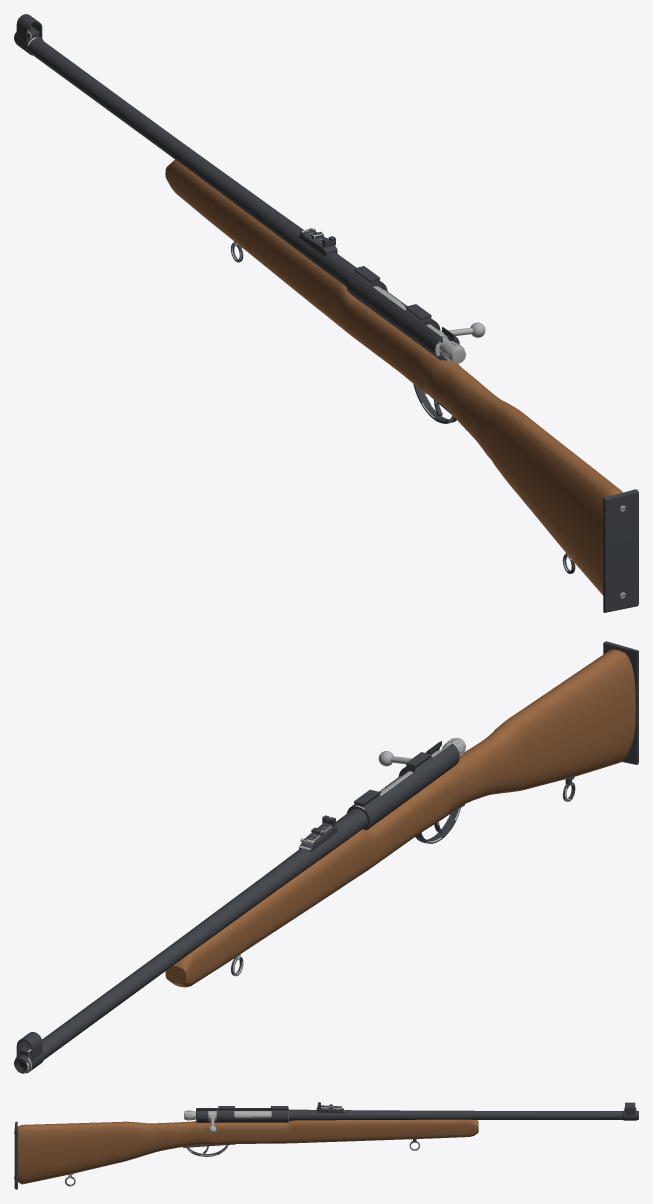
The model's file is toz8.glb.
The picture shows the model from 3 angles, top to bottom: view 1: azimuth 30°, elevation 25°; view 2: azimuth 150°, elevation 25°; view 3: azimuth 270°, elevation 25°; orthographic projection. The views are drawn at different scales.
Visible parts, largest first — view 1: static; view 2: static; view 3: static, turnbolt.
Part boxes in pixels (left/top/right/bottom): static: left=14, top=14, right=638, bottom=612; static: left=14, top=641, right=638, bottom=1073; static: left=14, top=1102, right=638, bottom=1189; turnbolt: left=208, top=1111, right=271, bottom=1133.
Bounding box in the file's own units: 0.0758 × 0.1678 × 1.14.
